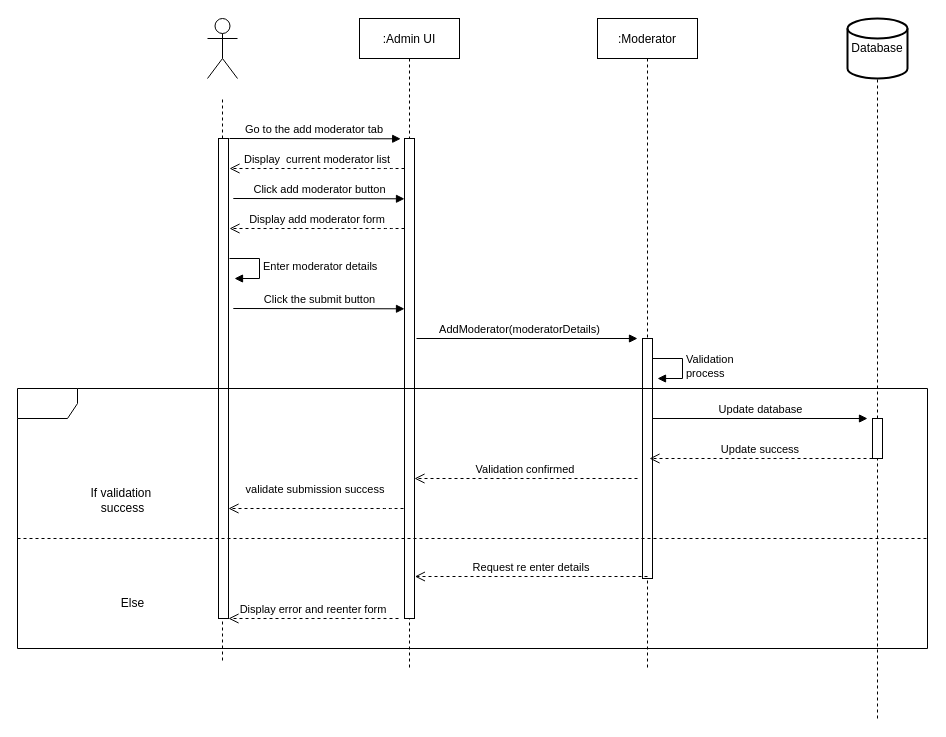
Image size: 946x737. Some labels were removed from this diagram. The shapes that lost their labels are listed below. From the top down, each one's centre as x and y in pixels, then its label:
(222,48): Admin
(472,518): alt
